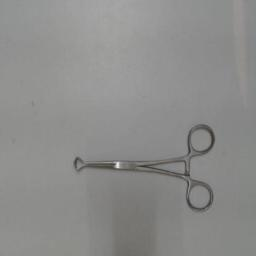Babcock Tissue Forceps: (71, 120, 219, 214)
